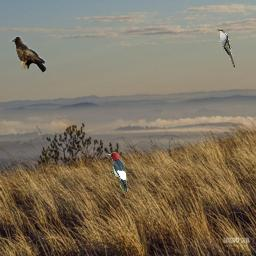Crow: (10, 35, 46, 74)
Cuckoo: (217, 29, 235, 69)
Woodpecker: (106, 152, 128, 192)
